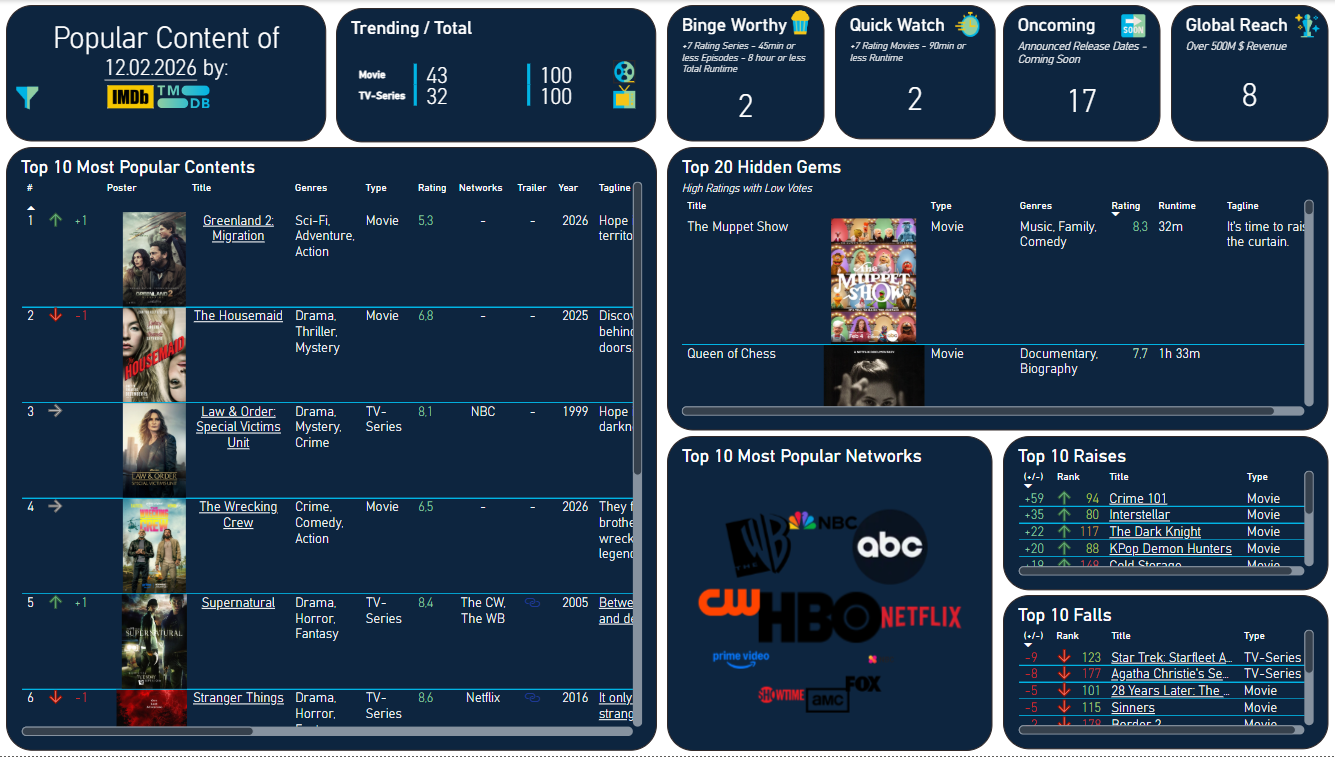

The page's visual inventory and layout, read from the dashboard file:
{"tool":"powerbi","page":{"name":"Landing Page","canvas":[1280,720],"ordinal":0},"visuals":[{"type":"textbox","title":"Title","box":[10,5,305,130],"z":0,"group":"g6"},{"type":"card","title":"Binge Worthy","fields":{"Values":["dim_content.M_BingeWorthy"]},"box":[640,5,150,130],"z":0,"group":"g4"},{"type":"card","title":"Quick Watch","fields":{"Values":["dim_content.M_QuickWatch"]},"box":[800,5,152.6,127.7],"z":0,"group":"g3"},{"type":"card","title":"Oncoming","fields":{"Values":["dim_content.M_OnComing"]},"box":[960,5,150,130],"z":0,"group":"g2"},{"type":"card","title":"Global Reach","fields":{"Values":["dim_content.M_GlobalReach"]},"box":[1120,5,150,130],"z":0,"group":"g1"},{"type":"cardVisual","title":"Trending / Total","fields":{"Data":["dim_content.M_Content_Trending","dim_content.M_TotalContent"],"Rows":["dim_content.TypeDisplay"]},"box":[325,8,305,128],"z":0,"group":"g5"},{"type":"tableEx","title":"Top 10 Falls","fields":{"Values":["Key Measures.M_Display_RankChangeToday","Key Measures.M_Rank Today","dim_content.primary_title","dim_content.TypeDisplay","Key Measures.M_RankChangeToday"]},"box":[960,567,310,147],"z":0},{"type":"image","title":"iconBingeWatch","box":[750.6,5,32.8,32.6],"z":1000,"group":"g4"},{"type":"image","title":"iconQuickWatch","box":[909.6,5,33.3,37.1],"z":1000,"group":"g3"},{"type":"image","title":"iconOncomingNonSel","box":[1067.3,8.5,33.3,32],"z":1000,"group":"g2"},{"type":"image","title":"iconGlobalReachNonSel","box":[1233.5,8.5,33.3,32],"z":1000,"group":"g1"},{"type":"image","title":"iconTv","box":[584.2,77,30.5,32],"z":1000,"group":"g5"},{"type":"tableEx","title":"Top 10 Raises","fields":{"Values":["Key Measures.M_RankChangeToday","Key Measures.M_Display_RankChangeToday","Key Measures.M_Rank Today","dim_content.primary_title","dim_content.TypeDisplay"]},"box":[960,415,310,147],"z":1000},{"type":"image","title":"iconMovie","box":[584.2,53,30.5,32],"z":2000,"group":"g5"},{"type":"image","title":"iconFilterNonSel","box":[14.6,80,31.1,34],"z":2000,"group":"g6"},{"type":"ImageGrid_FC5183B9_926C_45E0_B5F7_0CE9EAF1DA9B","title":"Top 10 Most Popular Networks","fields":{"ImageURLHQ":["dim_network.Poster"],"Value":["Sum(fact_popularity.Popularity)"]},"box":[640,415,310,300],"z":2000},{"type":"image","title":"logoTMDB","box":[149.3,80,60.1,32],"z":3000,"group":"g6"},{"type":"pivotTable","title":"Top 20 Hidden Gems","fields":{"Rows":["dim_content.Title"],"Values":["Min(dim_content.Poster)","Min(dim_content.TypeDisplay)","Min(dim_content.Genres)","Sum(dim_content.Score)","Min(dim_content.Runtime_HM_col)","Min(dim_content.Tagline)"]},"box":[640,140,630,270],"z":3000},{"type":"image","title":"logoIMDB","box":[98.3,80,60.1,32],"z":4000,"group":"g6"},{"type":"tableEx","title":"Top 10 Most Popular Contents","fields":{"Values":["fact_popularity.Rank Today","Key Measures.M_Display_RankChangeToday","dim_content.content_poster","dim_content.primary_title","dim_content.GenreList","dim_content.TypeDisplay","dim_content.Score","dim_content.NetworksDisplay","dim_content.TrailerDisplay","dim_content.Release Date.Variation.Date Hierarchy.Year","dim_content.Tagline","dim_content.Language"]},"box":[10,140,620,575],"z":4000},{"type":"group","id":"g1","title":"GlobalReach","box":[1120,5,150,130],"z":5000},{"type":"group","id":"g2","title":"Oncoming","box":[960,5,150,130],"z":6000},{"type":"group","id":"g3","title":"Quick Watch","box":[800,5,150,130],"z":7000},{"type":"group","id":"g4","title":"Binge Watch","box":[640,5,150,130],"z":8000},{"type":"group","id":"g5","title":"Trending","box":[325,8,305,128],"z":9000},{"type":"group","id":"g6","title":"Title","box":[10,5,305,130],"z":10000}]}

Visuals, with their boxes in screenshot pixels (x1, y1, x2, y2), scaled from the page's 1280x720 canvas onto the 1335x757 screenshot:
"Title" textbox: (10, 5, 329, 142)
"Binge Worthy" card: (668, 5, 824, 142)
"Quick Watch" card: (834, 5, 994, 140)
"Oncoming" card: (1001, 5, 1158, 142)
"Global Reach" card: (1168, 5, 1325, 142)
"Trending / Total" cardVisual: (339, 8, 657, 143)
"Top 10 Falls" tableEx: (1001, 596, 1325, 751)
"iconBingeWatch" image: (783, 5, 817, 40)
"iconQuickWatch" image: (949, 5, 983, 44)
"iconOncomingNonSel" image: (1113, 9, 1148, 43)
"iconGlobalReachNonSel" image: (1287, 9, 1321, 43)
"iconTv" image: (609, 81, 641, 115)
"Top 10 Raises" tableEx: (1001, 436, 1325, 591)
"iconMovie" image: (609, 56, 641, 89)
"iconFilterNonSel" image: (15, 84, 48, 120)
"Top 10 Most Popular Networks" ImageGrid_FC5183B9_926C_45E0_B5F7_0CE9EAF1DA9B: (668, 436, 991, 752)
"logoTMDB" image: (156, 84, 218, 118)
"Top 20 Hidden Gems" pivotTable: (668, 147, 1325, 431)
"logoIMDB" image: (103, 84, 165, 118)
"Top 10 Most Popular Contents" tableEx: (10, 147, 657, 752)
"GlobalReach" group: (1168, 5, 1325, 142)
"Oncoming" group: (1001, 5, 1158, 142)
"Quick Watch" group: (834, 5, 991, 142)
"Binge Watch" group: (668, 5, 824, 142)
"Trending" group: (339, 8, 657, 143)
"Title" group: (10, 5, 329, 142)
